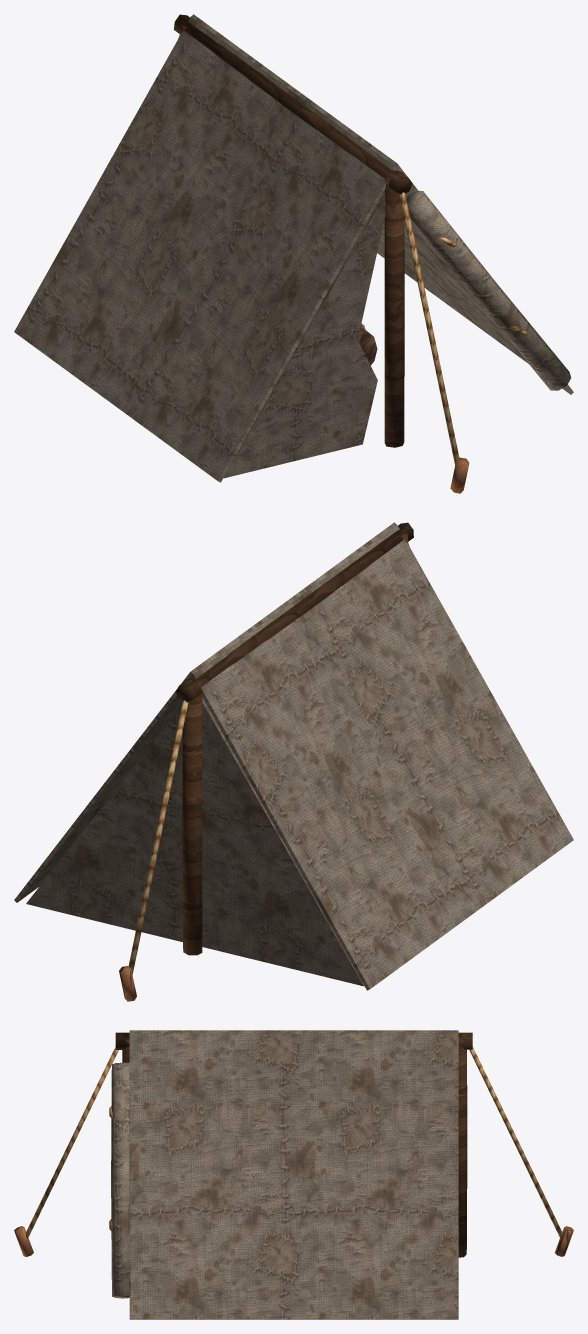
File: miner_tent.glb
3 renders of one model, top to bottom at view 1: azimuth 30°, elevation 25°; view 2: azimuth 150°, elevation 25°; view 3: azimuth 270°, elevation 25°, orthographic. The views are drawn at different scales.
Parts seen in each view (by area): view 1: model; view 2: model; view 3: model.
Part boxes in pixels (x1=…): model: x1=14, y1=14, x2=573, y2=493; model: x1=14, y1=522, x2=573, y2=1001; model: x1=14, y1=1030, x2=573, y2=1319.
Size of the model in its own units: 1.41 by 1.07 by 2.38.
10 materials, 10 textured.
